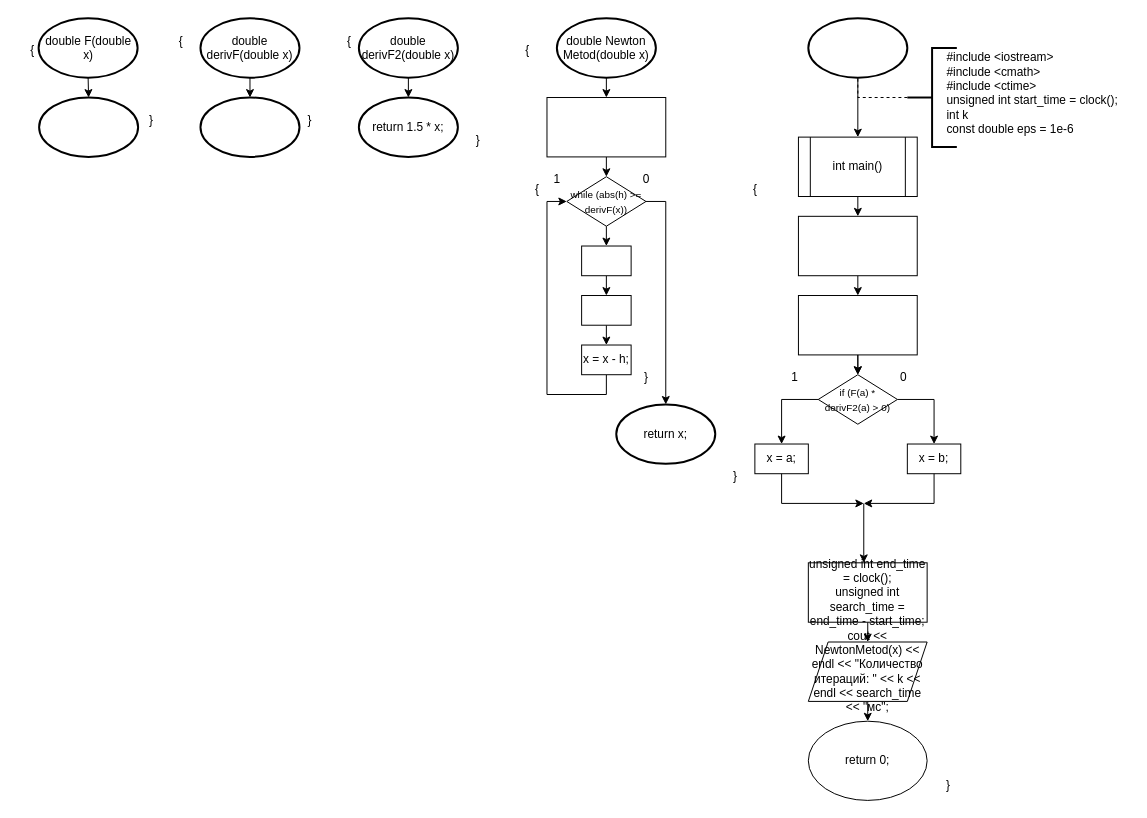
Image size: 1147x818. Some labels were removed from this diagram. Here are the shapes that lost their labels. From the top down, the centre of each, then its label:
[857,47]: Начало
[88,126]: return 0.25 * pow(x,3) + x - 1.2502;
[249,126]: return (0.75 * pow(x, 2)) + 1;
[606,127]: double h = F(x) / derivF(x);
[606,260]: k++
[857,245]: setlocale(LC_ALL, "RU");
[606,310]: h = F(x) / derivF(x);
[857,325]: double a = 0; double b = 2; double x = 0;
